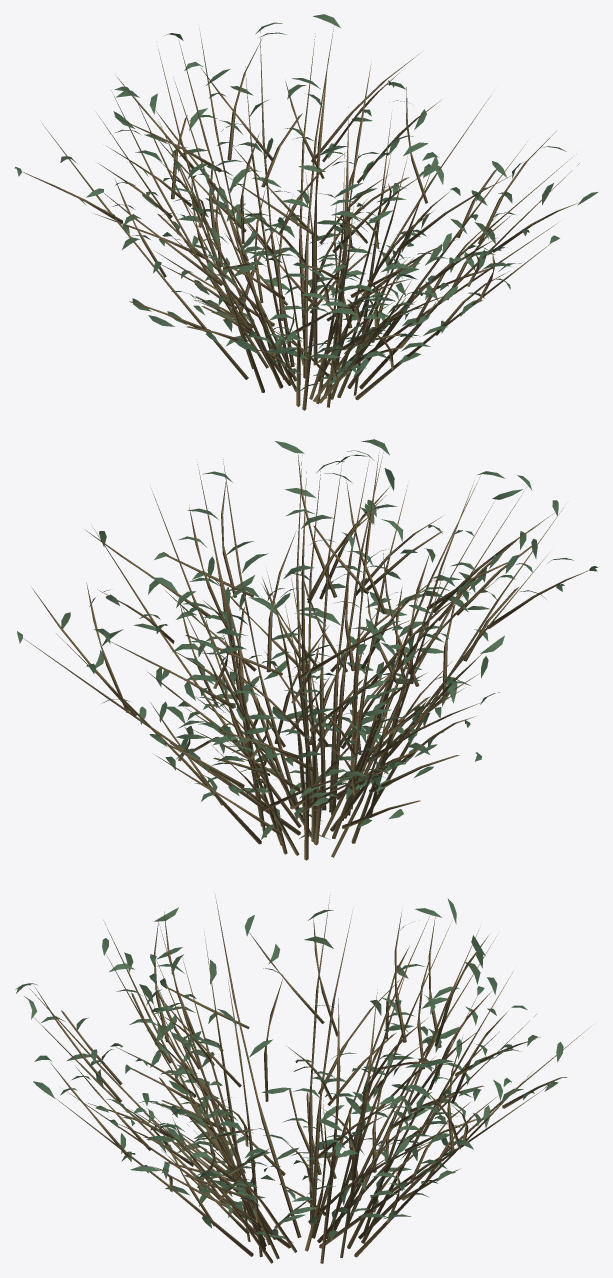
The model's file is Romarin_Dense_LOD2.fbx.
3 views of the same model, one above another, from view 1: azimuth 30°, elevation 25°; view 2: azimuth 150°, elevation 25°; view 3: azimuth 270°, elevation 25° (orthographic). The views are drawn at different scales.
Parts seen in each view (by area): view 1: Romarin_Dense_LOD2; view 2: Romarin_Dense_LOD2; view 3: Romarin_Dense_LOD2.
Boxes of the visible parts, x1,y1,x2,y2 form: Romarin_Dense_LOD2: [14, 14, 597, 410]; Romarin_Dense_LOD2: [17, 439, 597, 860]; Romarin_Dense_LOD2: [15, 894, 593, 1263].
Bounding box in the file's own units: 86.72 × 56.69 × 94.93.
